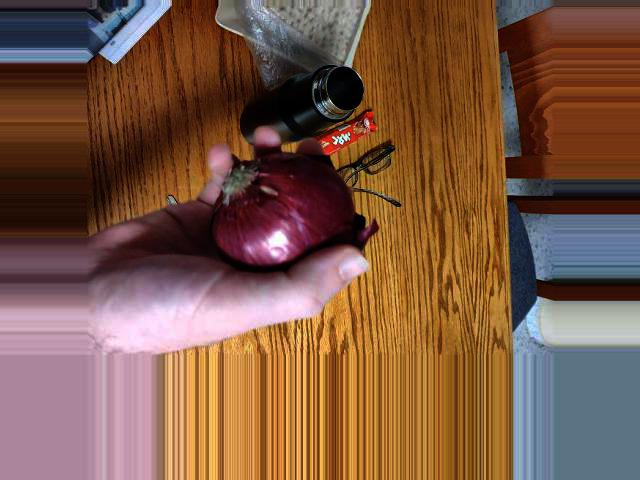onion: (219, 170, 340, 287)
